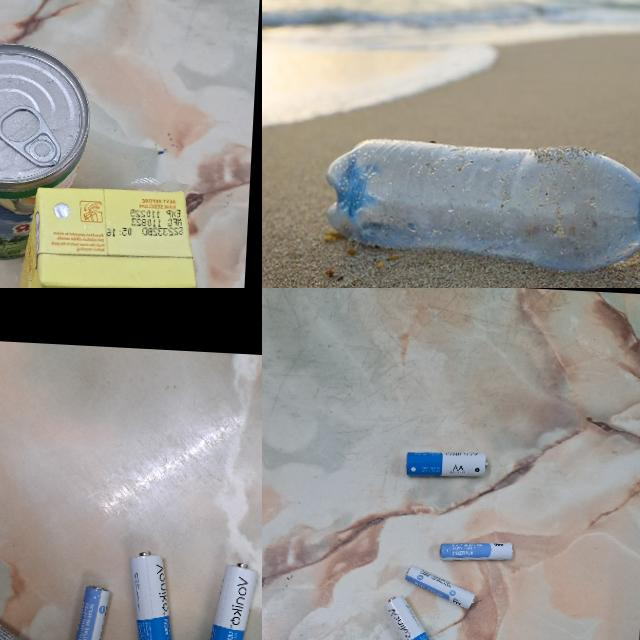aba de lata: (0, 106, 62, 169)
bateria: (125, 550, 181, 640), (202, 561, 260, 640), (404, 564, 478, 612), (381, 594, 450, 640), (404, 446, 489, 482), (67, 585, 110, 640), (438, 538, 514, 566), (0, 617, 70, 640)
caixinha: (13, 183, 201, 288)
garrafa plástica: (320, 134, 640, 278)
lata: (0, 37, 94, 263)
